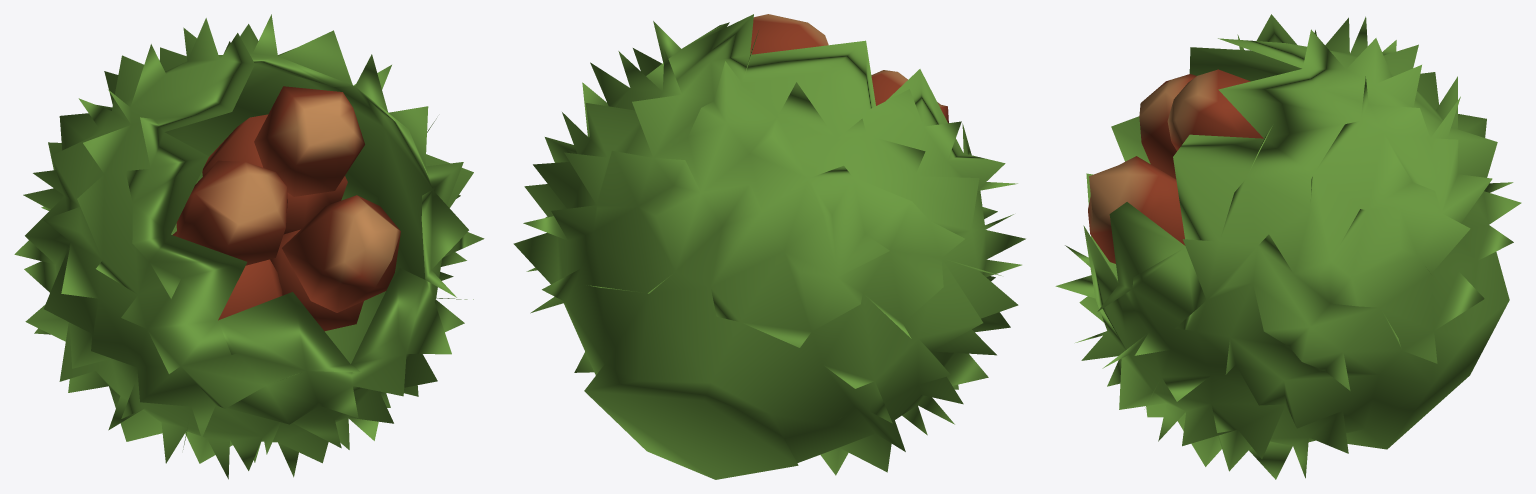
Rendered from forage_chestnut.glb.
3 renders of one model, left to right at view 1: azimuth 30°, elevation 25°; view 2: azimuth 150°, elevation 25°; view 3: azimuth 270°, elevation 25°, orthographic. The views are drawn at different scales.
Parts seen in each view (by area): view 1: forage_chestnut; view 2: forage_chestnut; view 3: forage_chestnut.
Part boxes in pixels (left/top/right/bottom): forage_chestnut: left=14, top=14, right=484, bottom=479; forage_chestnut: left=513, top=14, right=1025, bottom=479; forage_chestnut: left=1055, top=14, right=1521, bottom=479.
Bounding box in the file's own units: 0.9998 × 0.9865 × 0.9811.
